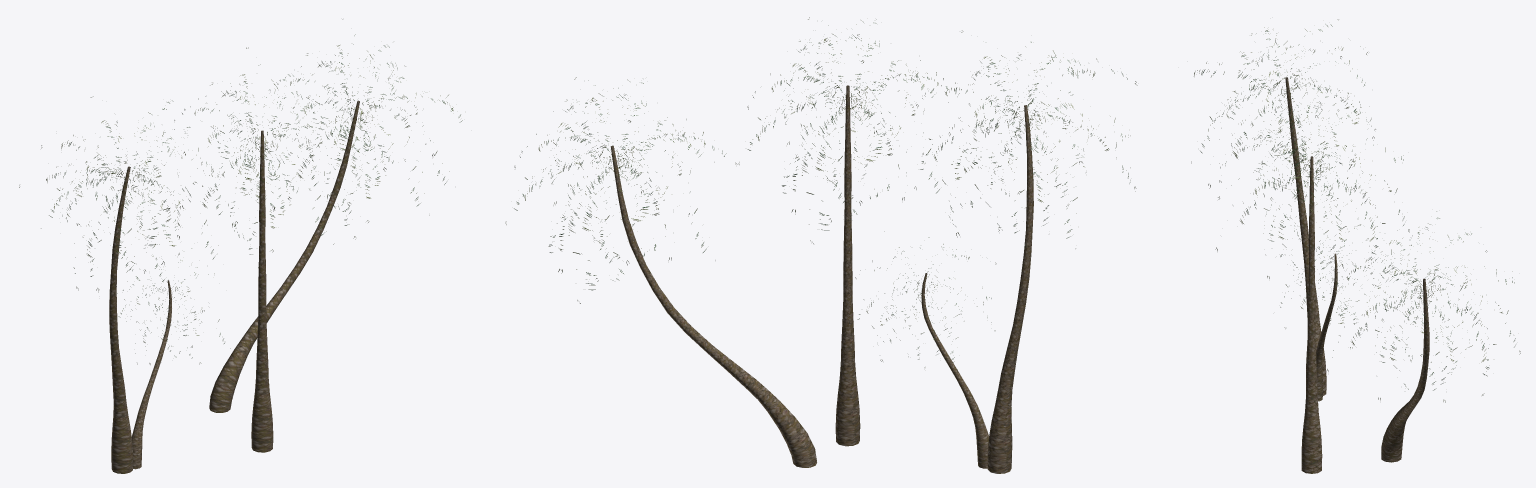
Rendered from Trees.fbx.
3 renders of one model, left to right at view 1: azimuth 30°, elevation 25°; view 2: azimuth 150°, elevation 25°; view 3: azimuth 270°, elevation 25°, orthographic. The views are drawn at different scales.
Visible parts, largest first — view 1: Tree1, Tree3, Tree2; view 2: Tree1, Tree3, Tree2; view 3: Tree2, Tree1, Tree3.
Part boxes in pixels (x1=…): Tree1: x1=19, y1=96, x2=230, y2=473; Tree3: x1=209, y1=19, x2=462, y2=412; Tree2: x1=174, y1=47, x2=375, y2=452; Tree1: x1=855, y1=30, x2=1137, y2=473; Tree3: x1=505, y1=77, x2=816, y2=467; Tree2: x1=738, y1=17, x2=970, y2=446; Tree2: x1=1215, y1=89, x2=1409, y2=473; Tree1: x1=1191, y1=19, x2=1389, y2=401; Tree3: x1=1327, y1=211, x2=1520, y2=462.
Size of the model in its own units: 1124 by 875 by 726.
